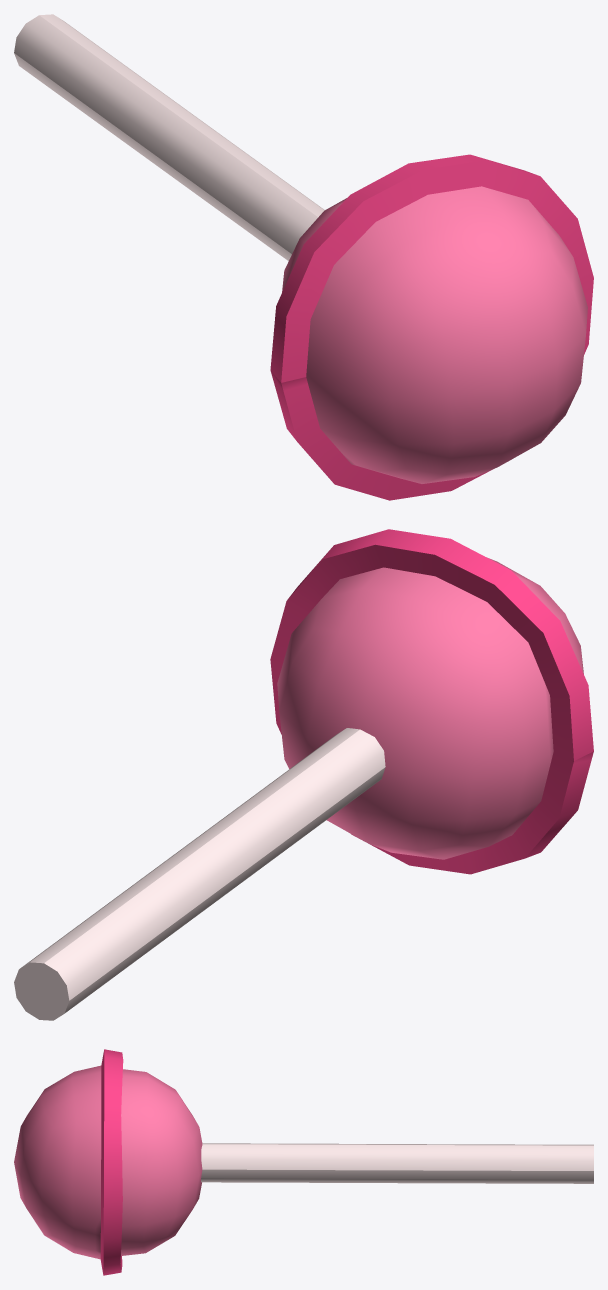
Rendered from Sucette.glb.
3 views of the same model, one above another, from view 1: azimuth 30°, elevation 25°; view 2: azimuth 150°, elevation 25°; view 3: azimuth 270°, elevation 25° (orthographic). The views are drawn at different scales.
Parts seen in each view (by area): view 1: sucette; view 2: sucette; view 3: sucette.
Part boxes in pixels (x1,y1,x2,y2): sucette: [14, 14, 593, 500]; sucette: [14, 529, 593, 1020]; sucette: [14, 1049, 593, 1275].
Bounding box in the file's own units: 1.06 × 1.06 × 2.75.
Materials: 1 (1 with a texture image).
